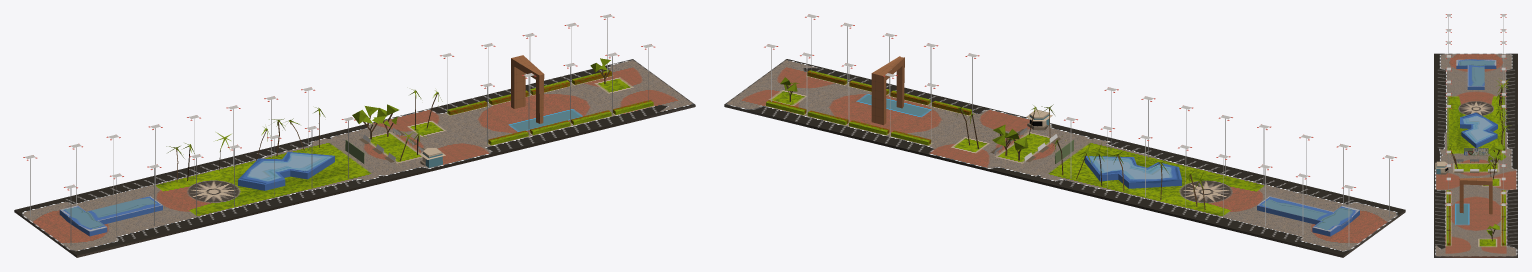
Rendered from praça das aguas LOD2.fbx.
3 renders of one model, left to right at view 1: azimuth 30°, elevation 25°; view 2: azimuth 150°, elevation 25°; view 3: azimuth 270°, elevation 25°, orthographic. The views are drawn at different scales.
Visible parts, largest first — view 1: Praça das Aguas LOD2; view 2: Praça das Aguas LOD2; view 3: Praça das Aguas LOD2.
Part boxes in pixels (box(x1,y1,x2,y2)): Praça das Aguas LOD2: box(14, 14, 695, 257); Praça das Aguas LOD2: box(724, 14, 1405, 257); Praça das Aguas LOD2: box(1434, 14, 1517, 257).
Size of the model in its own units: 5407 by 531 by 946.
1 material, 1 textured.
